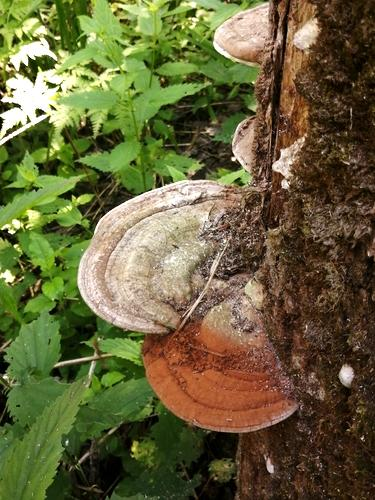Ganoderma - Fruit Body: (84, 176, 267, 329), (141, 330, 304, 435), (212, 2, 308, 65), (231, 111, 275, 170)
